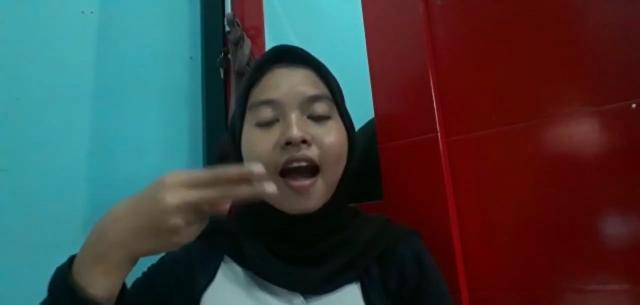H: (95, 161, 278, 257)
